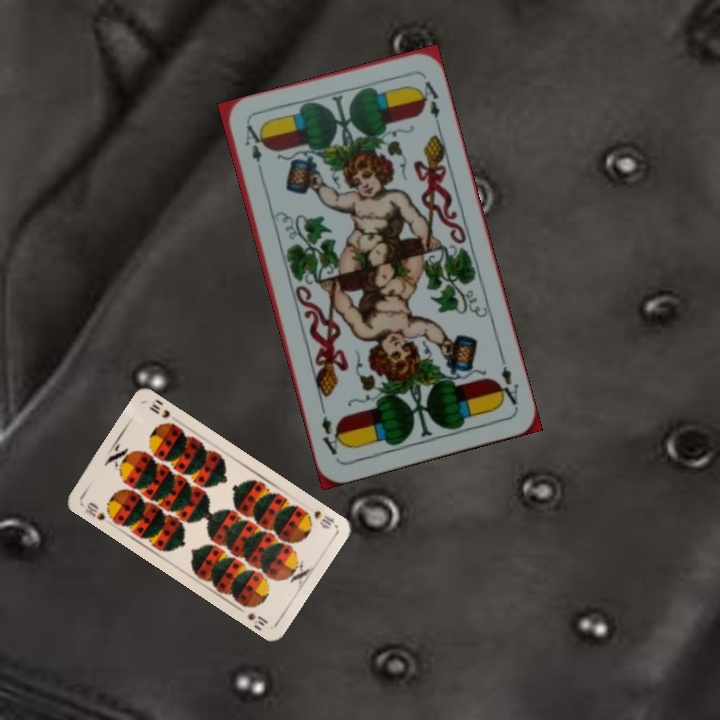EA: (492, 352, 522, 410), (240, 120, 266, 179)
S10: (309, 506, 338, 532), (80, 498, 108, 523)
